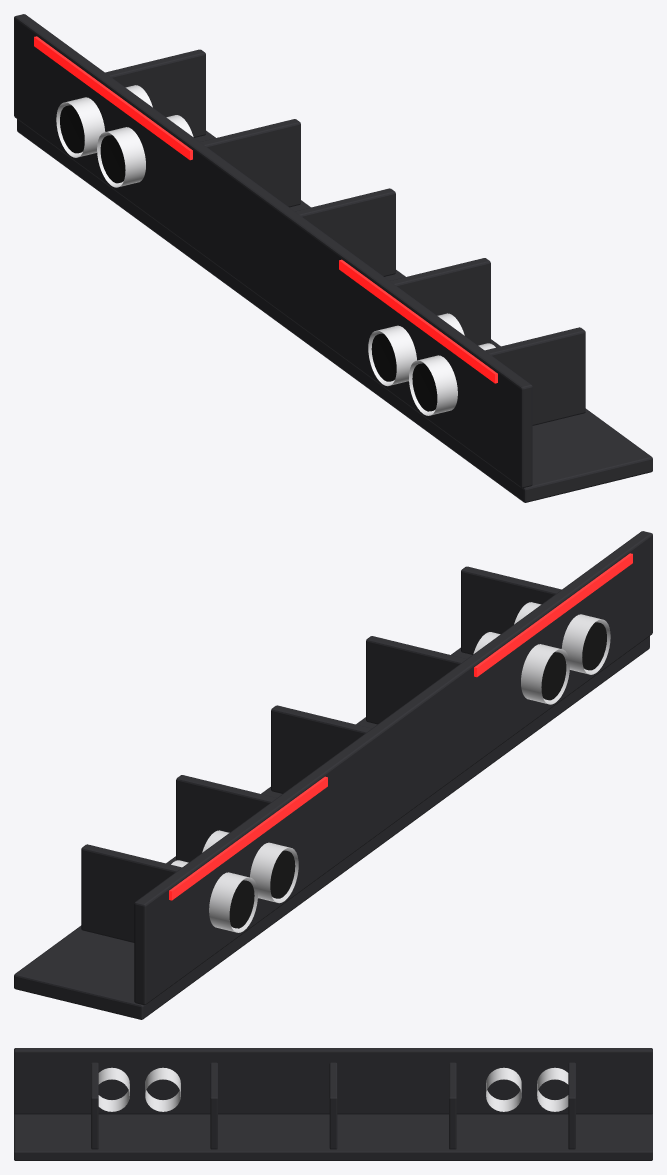
File: rear_diffuser.glb
The picture shows the model from 3 angles, top to bottom: view 1: azimuth 30°, elevation 25°; view 2: azimuth 150°, elevation 25°; view 3: azimuth 270°, elevation 25°; orthographic projection. The views are drawn at different scales.
Parts seen in each view (by area): view 1: diffuser, refl, tip.001, tip, tip.002, tip.003, in.003, in.001, in.002, in; view 2: diffuser, refl, tip.002, tip.003, tip.001, tip, in, in.002, in.001, in.003; view 3: diffuser, tip.001, tip.002, tip, tip.003.
Boxes of the visible parts, x1,y1,x2,y2 form: diffuser: (14,14,652,502); refl: (34,36,497,383); tip.001: (97,115,193,187); tip: (56,85,152,157); tip.002: (368,313,464,386); tip.003: (409,343,495,415); in.003: (412,363,437,411); in.001: (100,135,125,183); in.002: (371,333,396,381); in: (60,105,84,153); diffuser: (14,531,652,1019); refl: (169,553,632,900); tip.002: (473,632,569,704); tip.003: (514,602,610,674); tip.001: (202,830,298,903); tip: (171,860,257,932); in: (229,880,254,928); in.002: (541,652,566,700); in.001: (270,850,295,898); in.003: (582,622,606,670); diffuser: (14,1048,652,1160); tip.001: (486,1067,521,1111); tip.002: (145,1067,180,1111); tip: (537,1067,568,1111); tip.003: (98,1067,129,1111).
Size of the model in its own units: 2.6 by 1.9 by 15.
